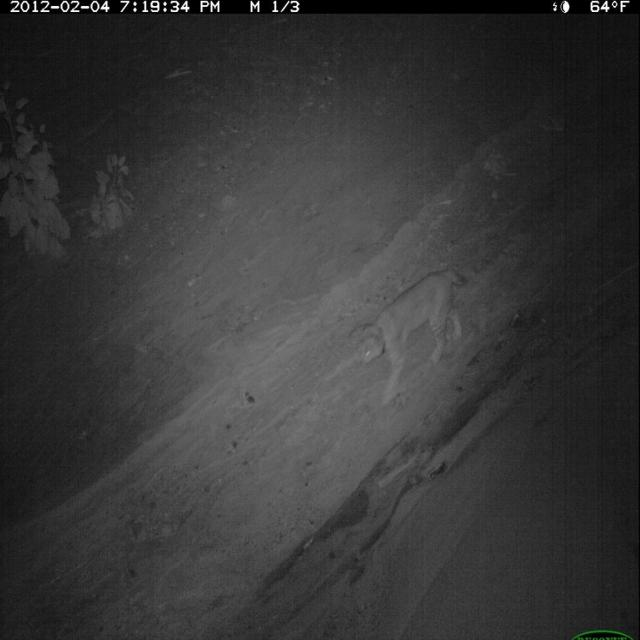bobcat: (355, 263, 472, 413)
